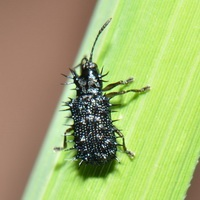insect: (54, 18, 149, 165)
